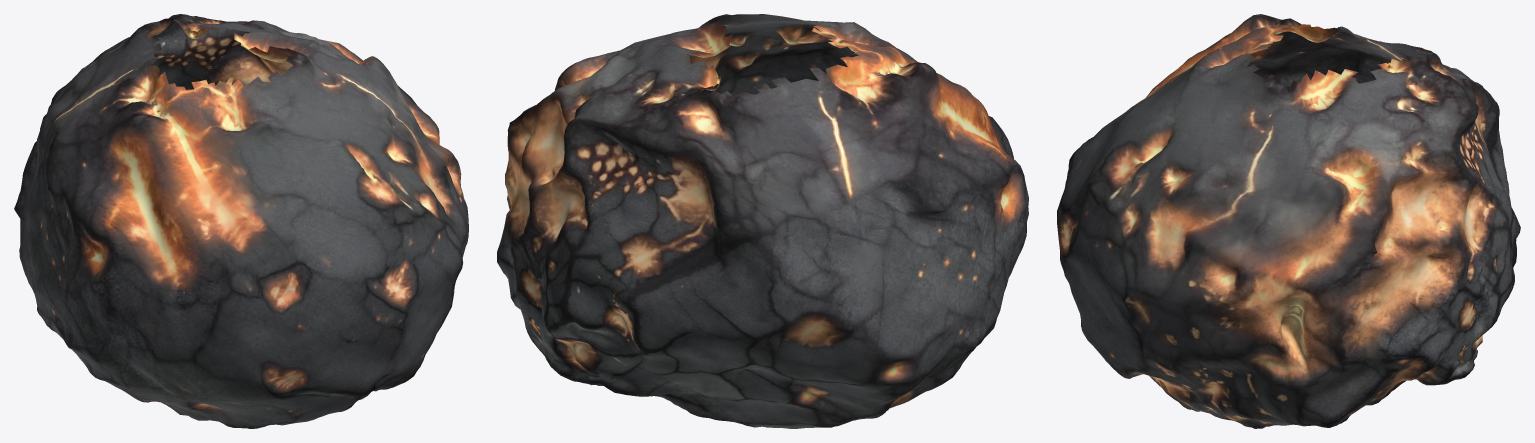
File: asteroid-meshy.obj
3 views of the same model, side by side, from view 1: azimuth 30°, elevation 25°; view 2: azimuth 150°, elevation 25°; view 3: azimuth 270°, elevation 25° (orthographic). The views are drawn at different scales.
Parts seen in each view (by area): view 1: Meshy_AI_an_asteriod_0423132113_texture; view 2: Meshy_AI_an_asteriod_0423132113_texture; view 3: Meshy_AI_an_asteriod_0423132113_texture.
Part boxes in pixels (x1,y1,x2,y2): Meshy_AI_an_asteriod_0423132113_texture: (14, 14, 468, 428); Meshy_AI_an_asteriod_0423132113_texture: (497, 14, 1028, 428); Meshy_AI_an_asteriod_0423132113_texture: (1057, 14, 1520, 428).
Size of the model in its own units: 1.21 by 1 by 1.21.
1 material, 1 textured.
